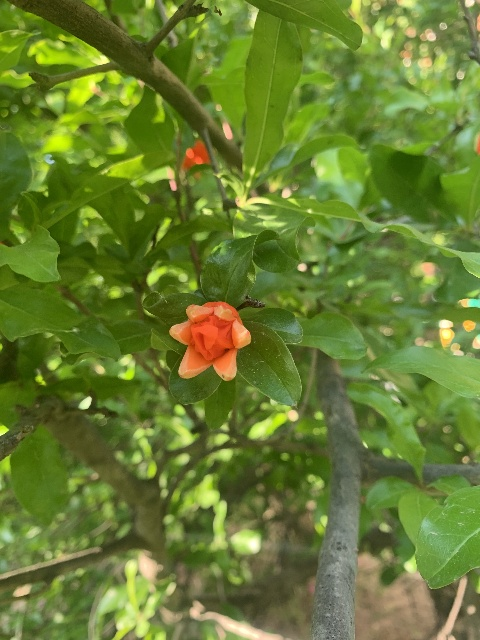flower: (169, 301, 251, 380)
